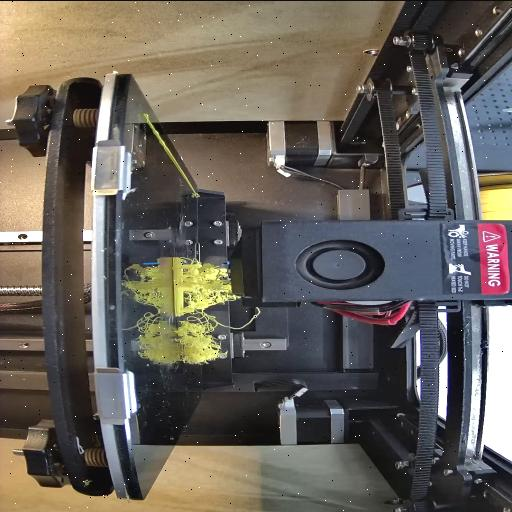spaghetti: (179, 256, 255, 360)
